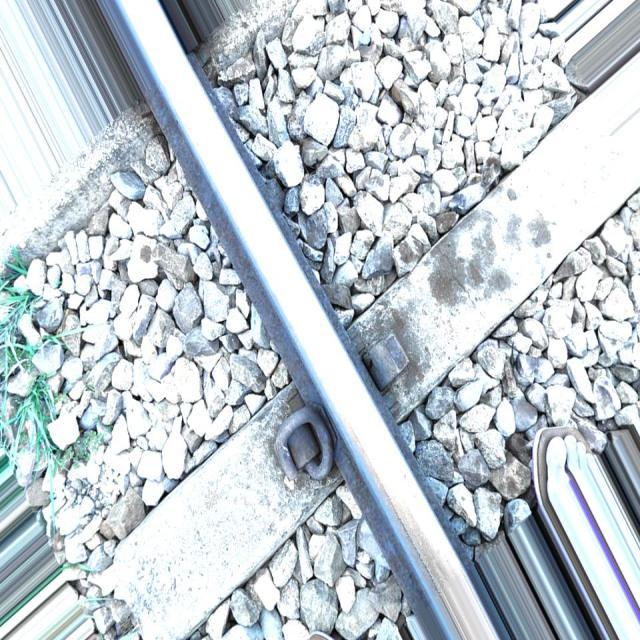Good Fasteners: (260, 403, 342, 491)
Missing Fastener: (348, 326, 420, 402)
